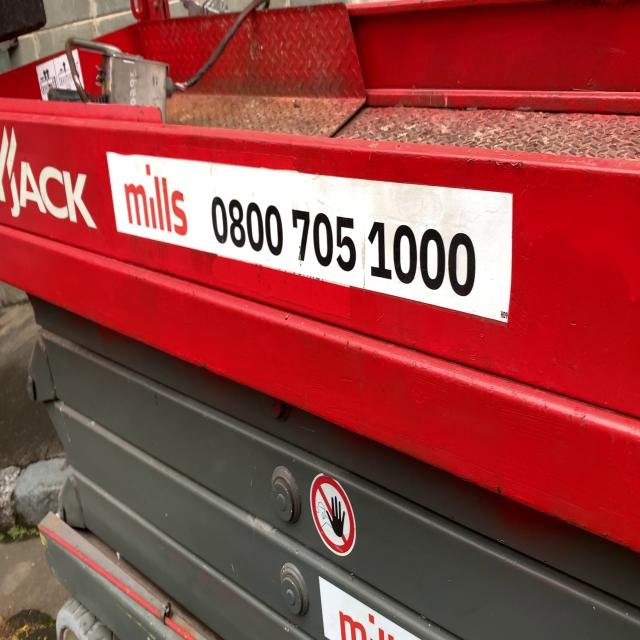Adesivo Longo: (102, 142, 518, 331)
